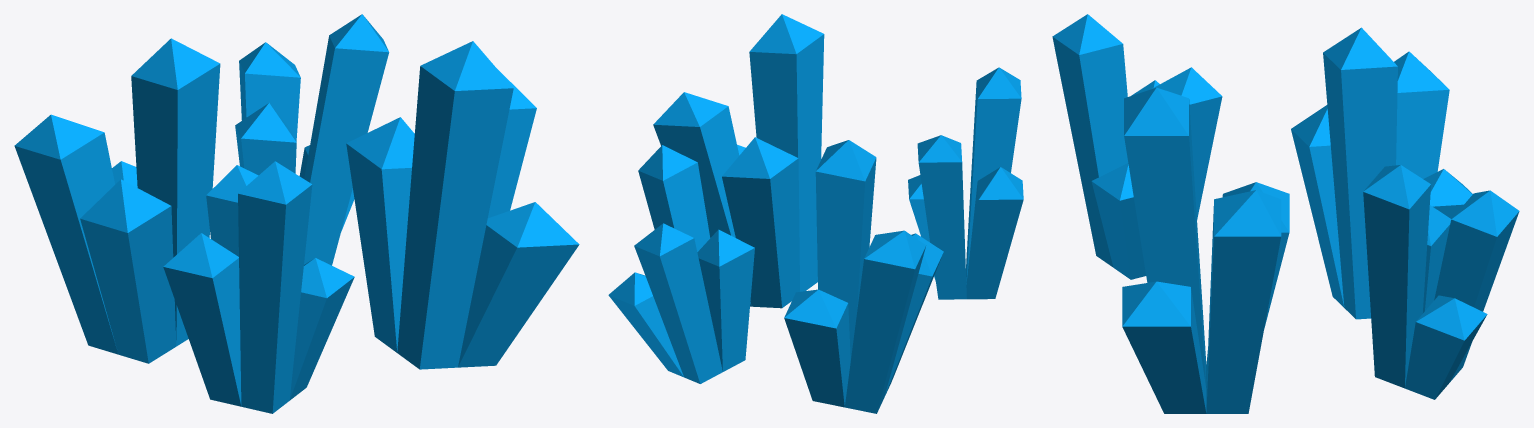
The model's file is crystals.obj.
The picture shows the model from 3 angles, left to right: view 1: azimuth 30°, elevation 25°; view 2: azimuth 150°, elevation 25°; view 3: azimuth 270°, elevation 25°; orthographic projection. The views are drawn at different scales.
Visible parts, largest first — view 1: Plane_Plane.001; view 2: Plane_Plane.001; view 3: Plane_Plane.001.
Part boxes in pixels (bbox=[...]): Plane_Plane.001: bbox=[14, 14, 579, 413]; Plane_Plane.001: bbox=[608, 14, 1023, 413]; Plane_Plane.001: bbox=[1052, 14, 1519, 413].
Size of the model in its own units: 4.43 by 3.54 by 4.69.
